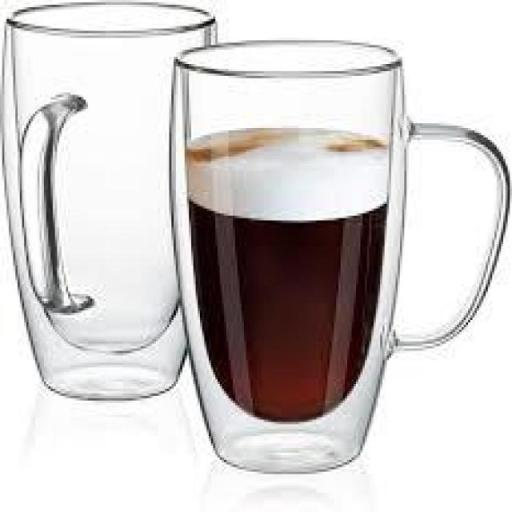glass: (178, 40, 512, 471), (2, 1, 216, 399)
